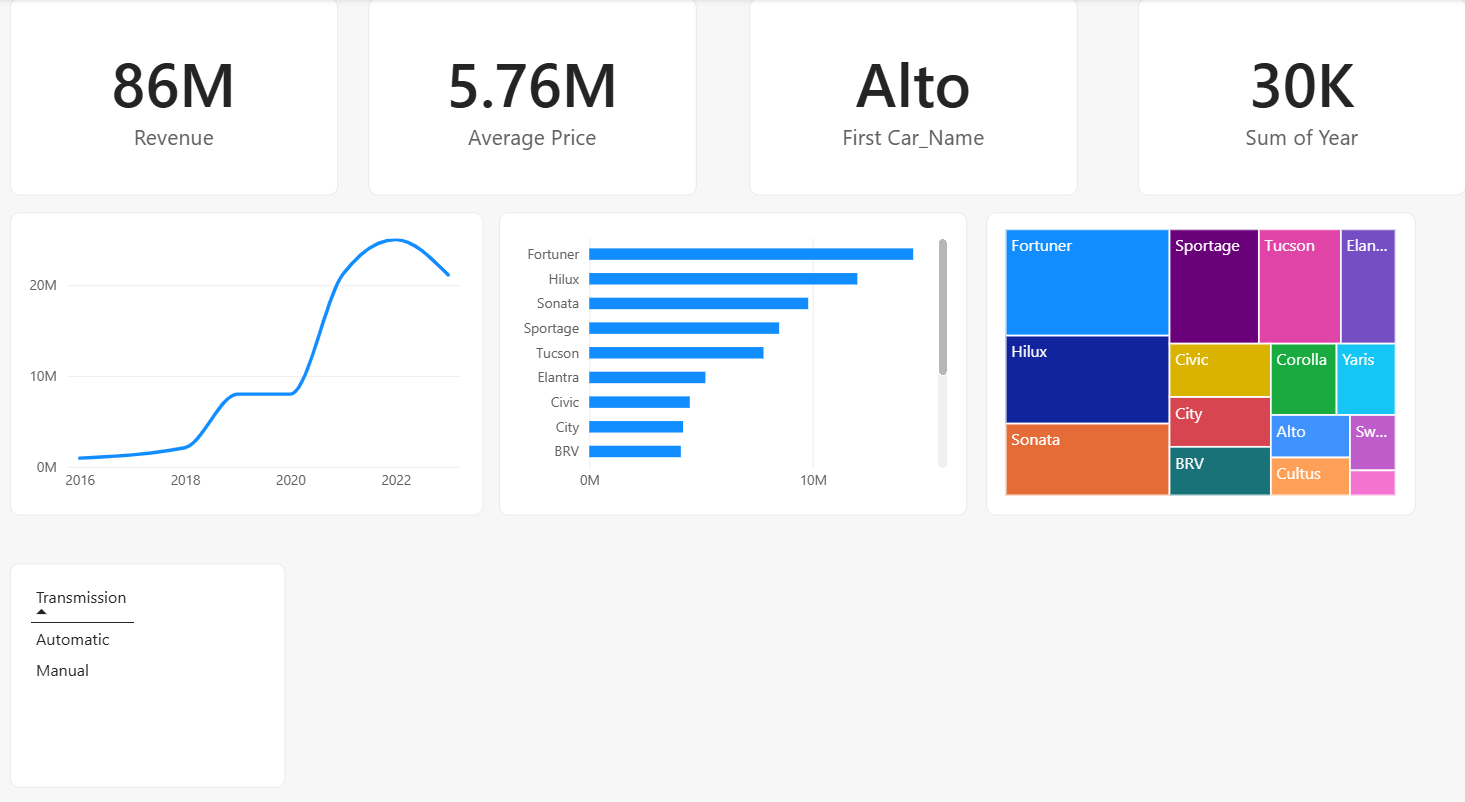

This screenshot's page, from the dashboard's own definition file:
{"tool":"powerbi","page":{"name":"Page 1","canvas":[1280,720],"ordinal":0},"visuals":[{"type":"card","fields":{"Values":["car_sales_analysis_dataset.Revenue"]},"box":[10.5,0,286.2,172.1],"z":0},{"type":"card","fields":{"Values":["car_sales_analysis_dataset.Average Price"]},"box":[323.1,0,286.2,172.1],"z":1000},{"type":"card","fields":{"Values":["Min(car_sales_analysis_dataset.Car_Name)"]},"box":[654.9,0,286.2,172.1],"z":2000},{"type":"lineChart","fields":{"Category":["car_sales_analysis_dataset.Year Hierarchy.Year"],"Y":["car_sales_analysis_dataset.Revenue","car_sales_analysis_dataset.Revenue"]},"box":[10,186.9,412.4,264],"z":3000},{"type":"card","fields":{"Values":["Sum(car_sales_analysis_dataset.Year)"]},"box":[993.8,0,286.2,172.1],"z":3001},{"type":"clusteredBarChart","fields":{"Category":["car_sales_analysis_dataset.Car_Name"],"Y":["car_sales_analysis_dataset.Revenue"]},"box":[436.7,186.9,408.1,264],"z":3002},{"type":"treemap","fields":{"Group":["car_sales_analysis_dataset.Car_Name"],"Values":["Sum(car_sales_analysis_dataset.Selling_Price)"]},"box":[861.9,186.9,373.9,264],"z":3003},{"type":"tableEx","fields":{"Values":["car_sales_analysis_dataset.Transmission"]},"box":[10,492.3,239.7,195.5],"z":3004}]}

Visuals, with their boxes in screenshot pixels (x1, y1, x2, y2), scaled from the page's 1280x720 canvas onto the 1465x802 screenshot:
card - car_sales_analysis_dataset.Revenue: bbox=[12, 0, 340, 192]
card - car_sales_analysis_dataset.Average Price: bbox=[370, 0, 697, 192]
card - Min(car_sales_analysis_dataset.Car_Name): bbox=[750, 0, 1077, 192]
lineChart - car_sales_analysis_dataset.Year Hierarchy.Year x car_sales_analysis_dataset.Revenue: bbox=[11, 208, 483, 502]
card - Sum(car_sales_analysis_dataset.Year): bbox=[1137, 0, 1464, 192]
clusteredBarChart - car_sales_analysis_dataset.Car_Name x car_sales_analysis_dataset.Revenue: bbox=[500, 208, 967, 502]
treemap - car_sales_analysis_dataset.Car_Name x Sum(car_sales_analysis_dataset.Selling_Price): bbox=[986, 208, 1414, 502]
tableEx - car_sales_analysis_dataset.Transmission: bbox=[11, 548, 286, 766]
